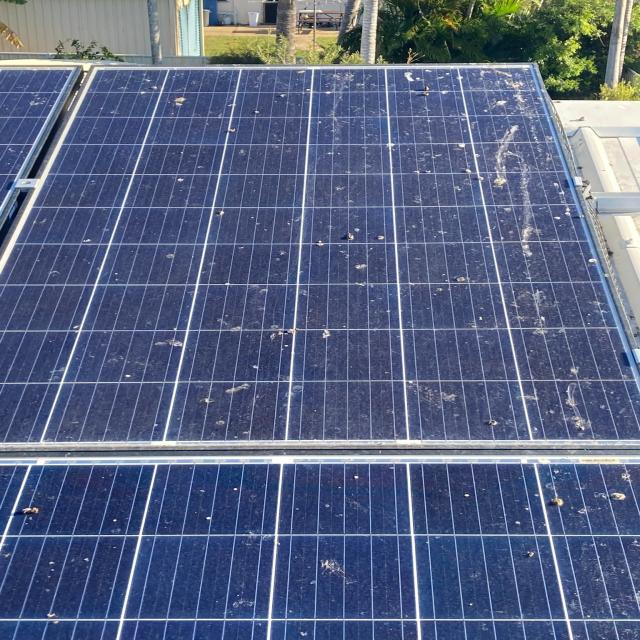faulty: (4, 62, 638, 440), (16, 454, 640, 640)
